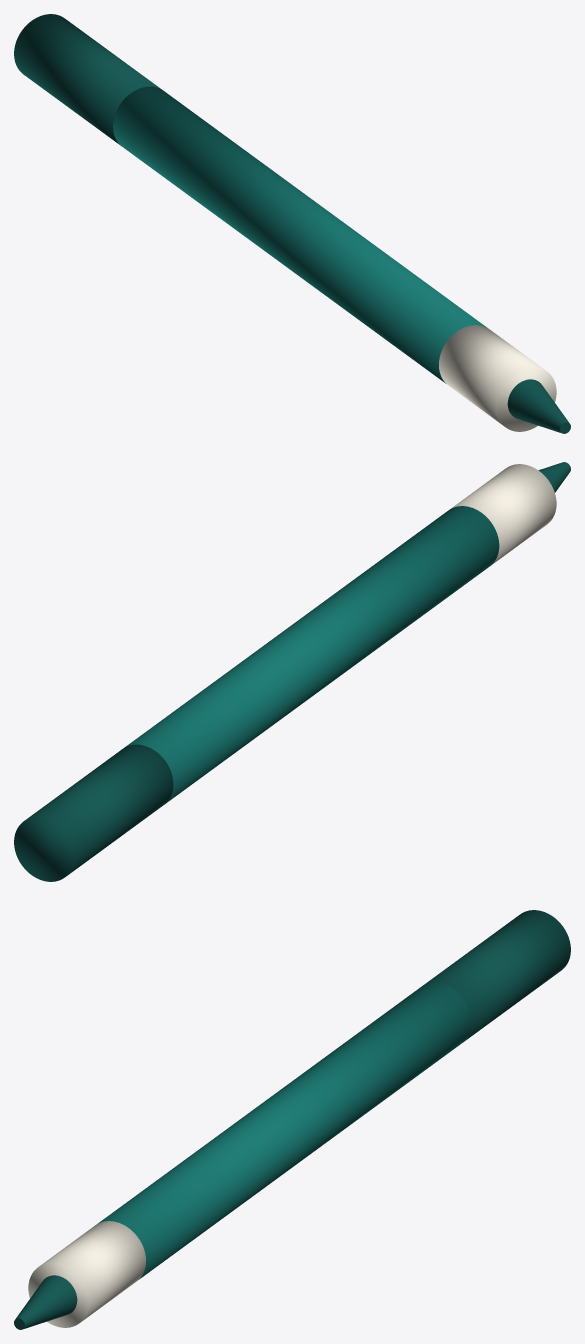
File: marker_segment.glb
3 views of the same model, one above another, from view 1: azimuth 30°, elevation 25°; view 2: azimuth 150°, elevation 25°; view 3: azimuth 330°, elevation 25° (orthographic).
Parts seen in each view (by area): view 1: marker_segment_barrel, marker_segment_cap, marker_segment_grip, marker_segment_tip; view 2: marker_segment_barrel, marker_segment_cap, marker_segment_grip; view 3: marker_segment_barrel, marker_segment_cap, marker_segment_grip, marker_segment_tip.
Part boxes in pixels (left/top/right/bottom): marker_segment_barrel: left=113, top=86, right=486, bottom=383; marker_segment_cap: left=14, top=14, right=161, bottom=145; marker_segment_grip: left=439, top=325, right=556, bottom=431; marker_segment_tip: left=507, top=379, right=570, bottom=433; marker_segment_barrel: left=125, top=506, right=499, bottom=803; marker_segment_cap: left=14, top=744, right=173, bottom=881; marker_segment_grip: left=451, top=464, right=556, bottom=565; marker_segment_barrel: left=98, top=982, right=471, bottom=1279; marker_segment_cap: left=423, top=910, right=570, bottom=1041; marker_segment_grip: left=28, top=1221, right=145, bottom=1327; marker_segment_tip: left=14, top=1275, right=77, bottom=1329.
Bounding box in the file's own units: 0.0095 × 0.0095 × 0.142.
